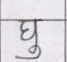u_matra: (16, 45, 44, 60)
